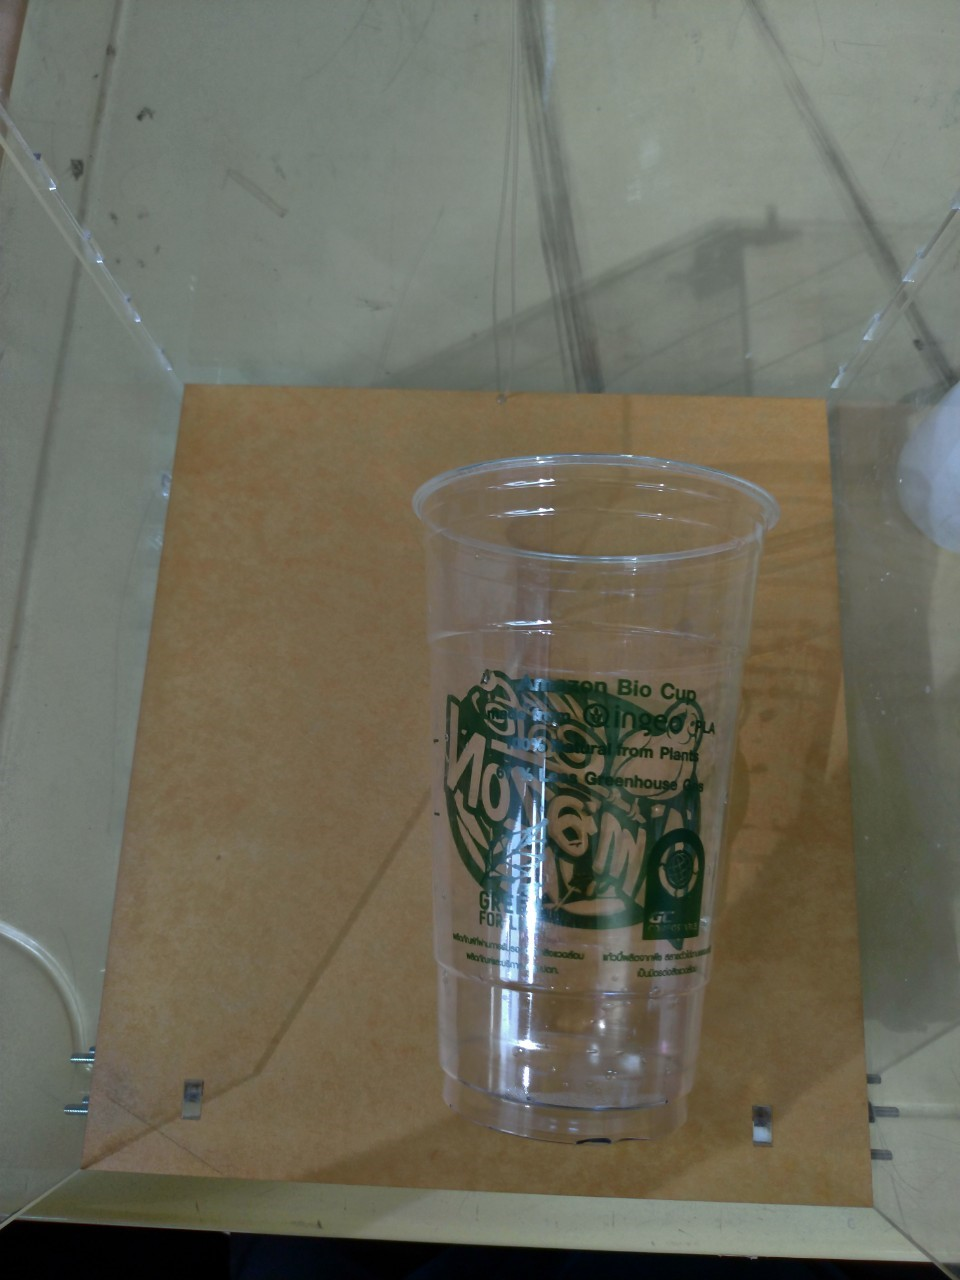PlasticCup: (414, 453, 779, 1143)
